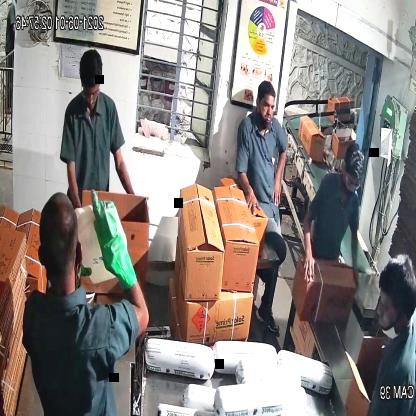no_goggles: (253, 96, 278, 116)
